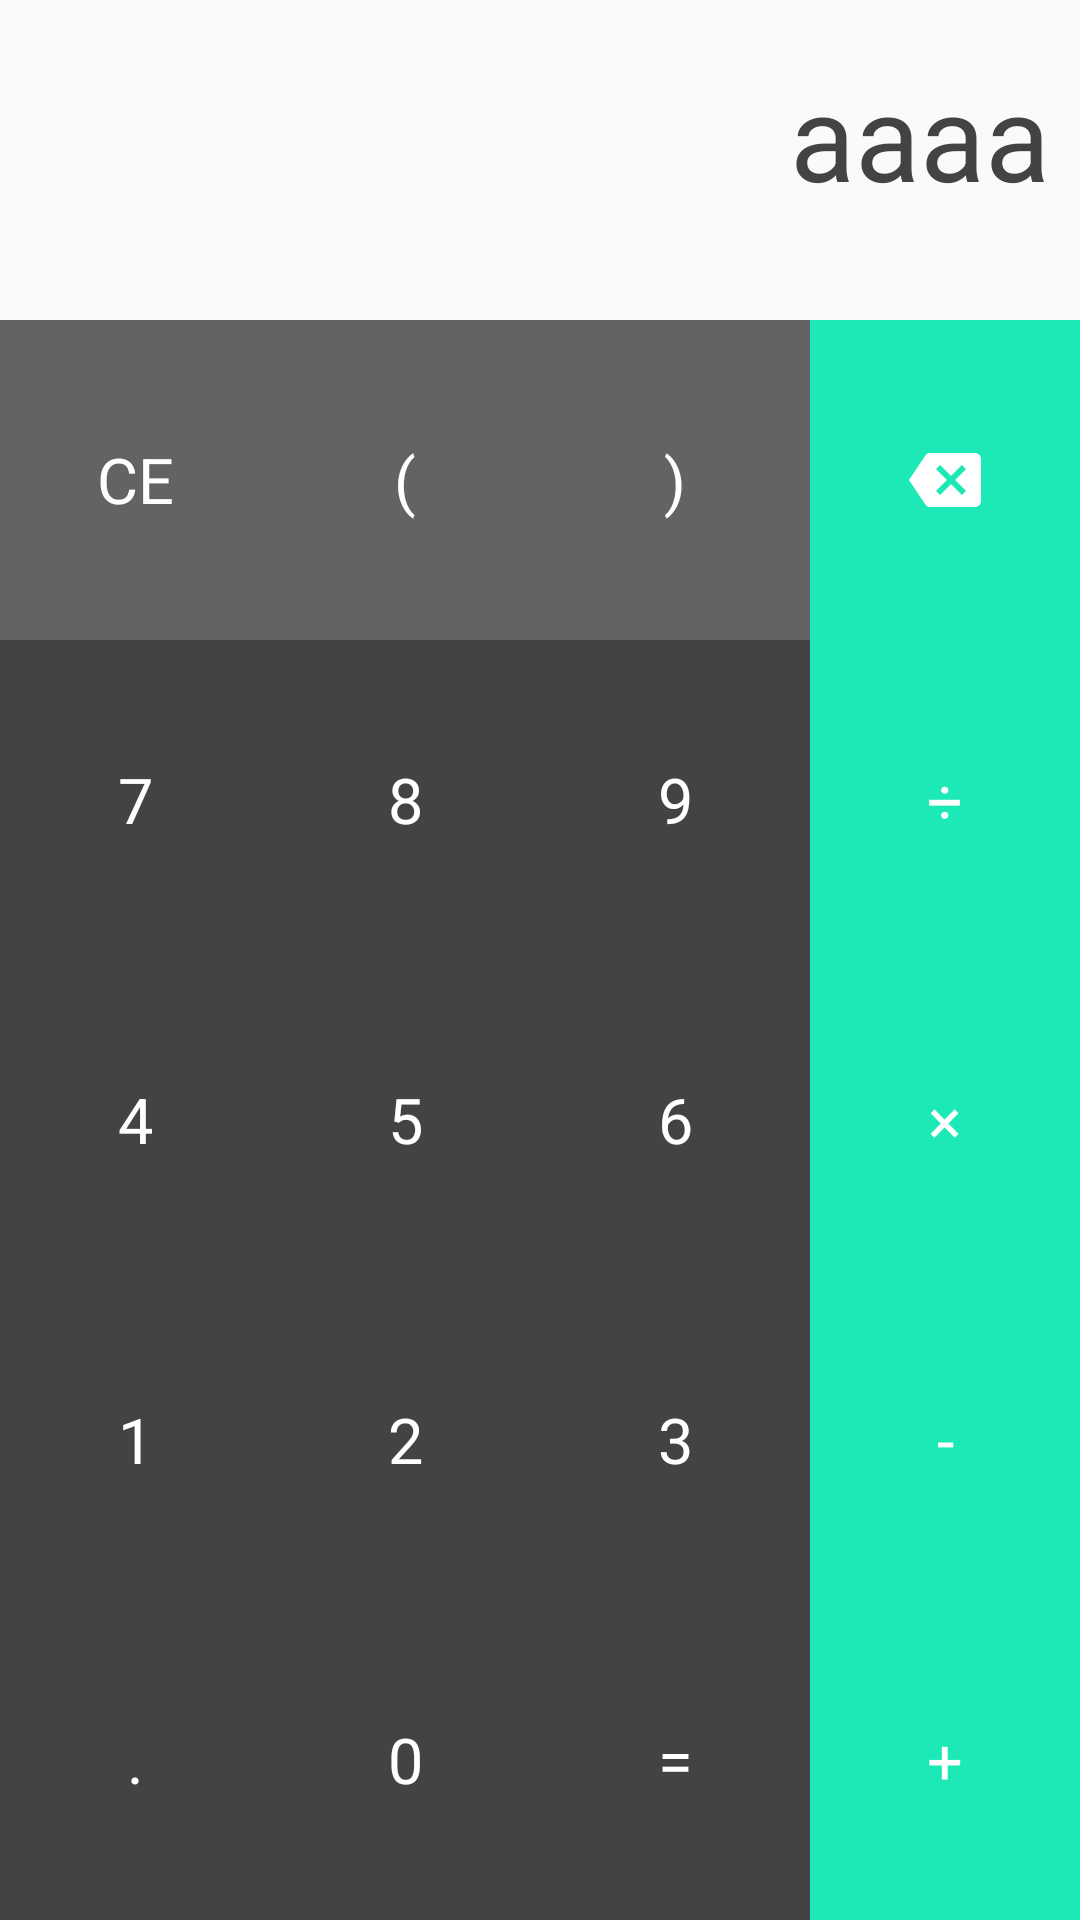

Icon bounding boxes for this 1080px×1920px phone screenshot, format rect(x1, y1, x2, y2):
backspace: rect(909, 453, 981, 507)
